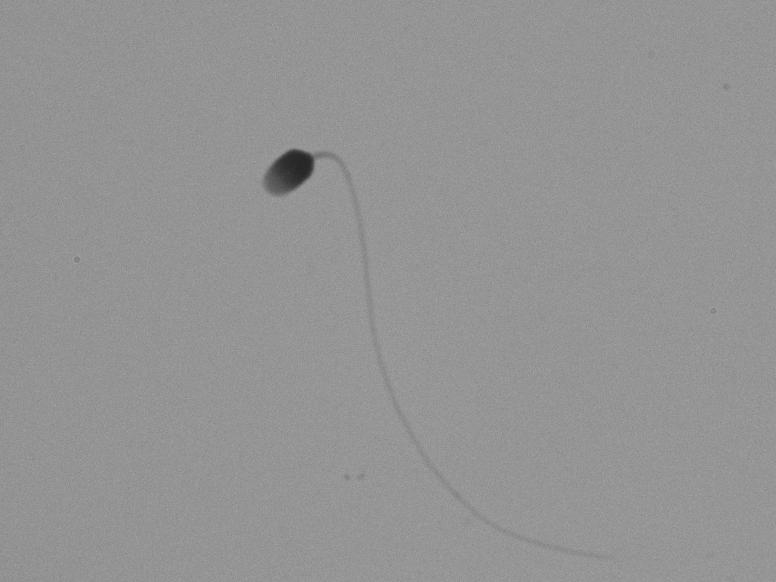Normal: (219, 104, 599, 562)
